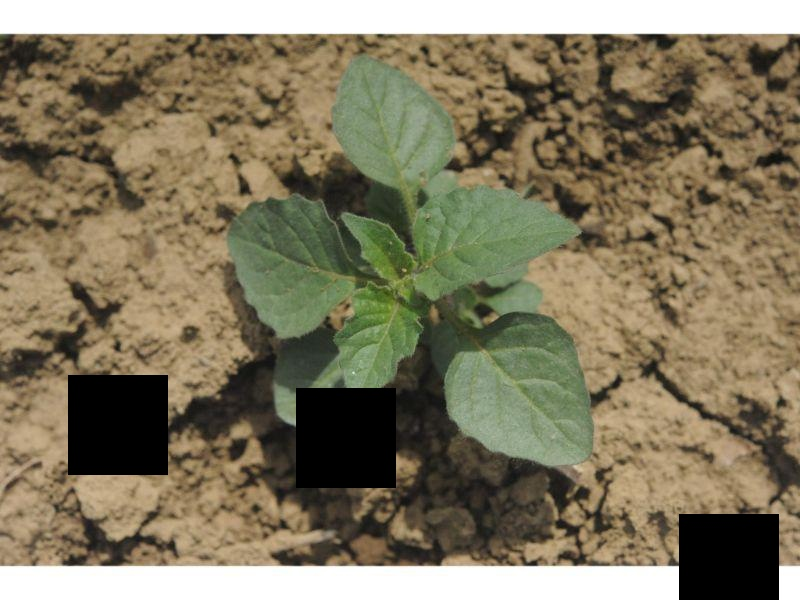nightshade: (228, 53, 594, 466)
